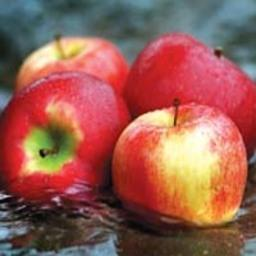apple: (113, 99, 248, 230), (1, 75, 130, 205), (126, 33, 256, 159), (15, 34, 125, 98)
